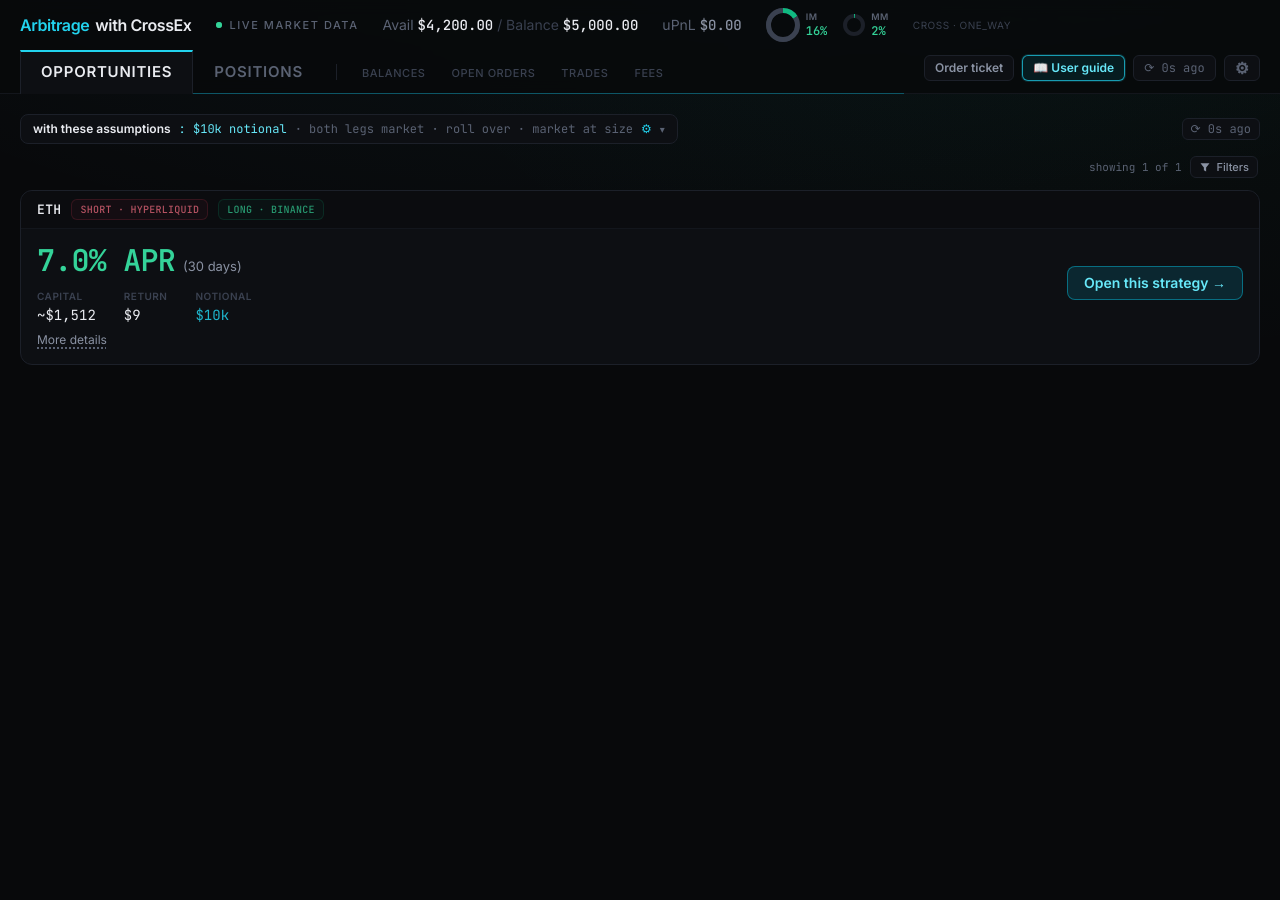
user guide › renders the guide in-app from GitHub instead of navigating away
Expected: the element named "Sections" is shown, 20,50 -> 676,94
Click the button "📖 User guide" at (1074, 68), box 1022,55 -> 1125,81
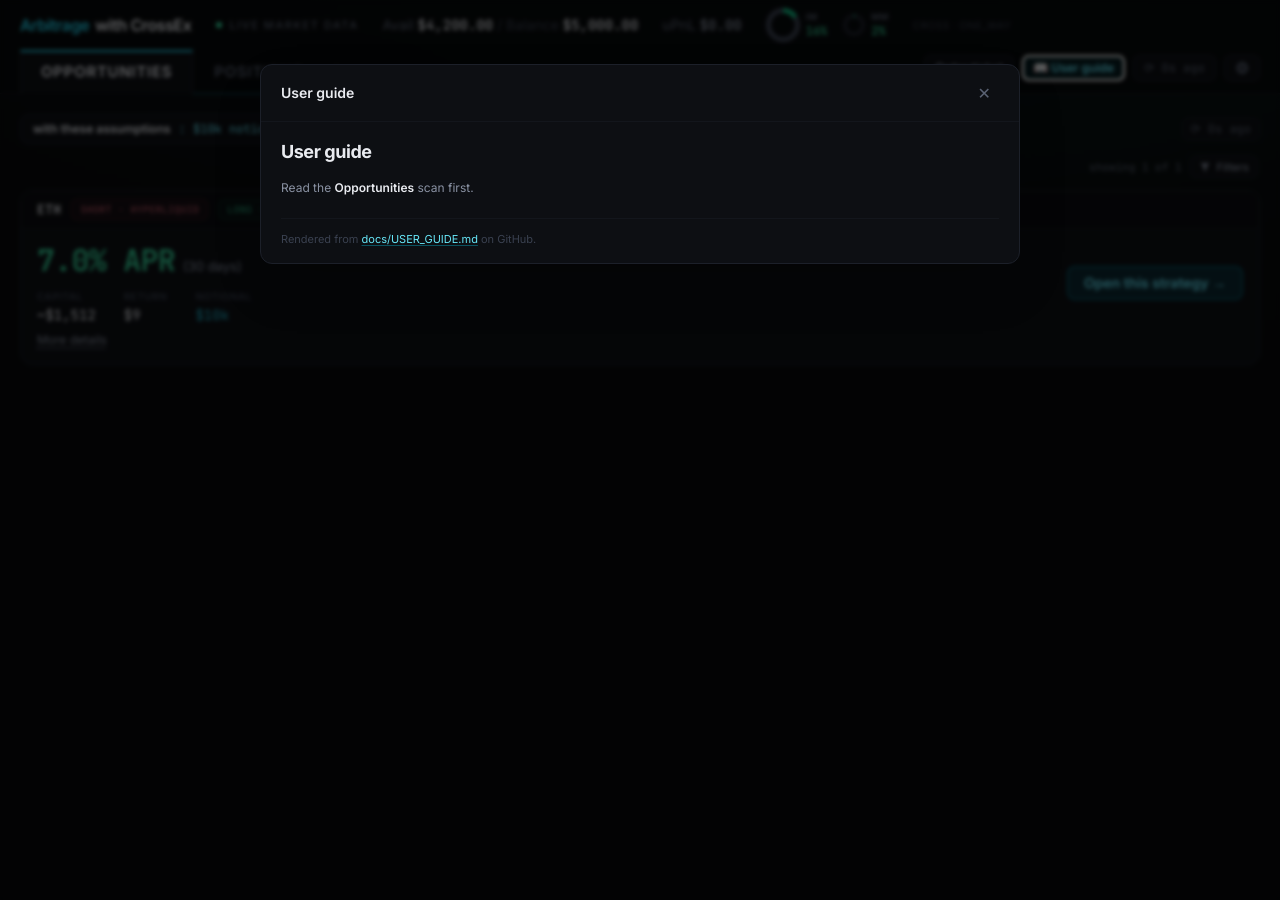
Result: the 2nd heading "User guide" is shown at 281,141 -> 372,162
